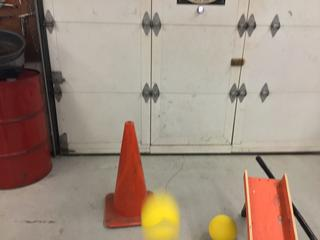power_cell: (138, 192, 186, 240), (206, 212, 239, 240)
